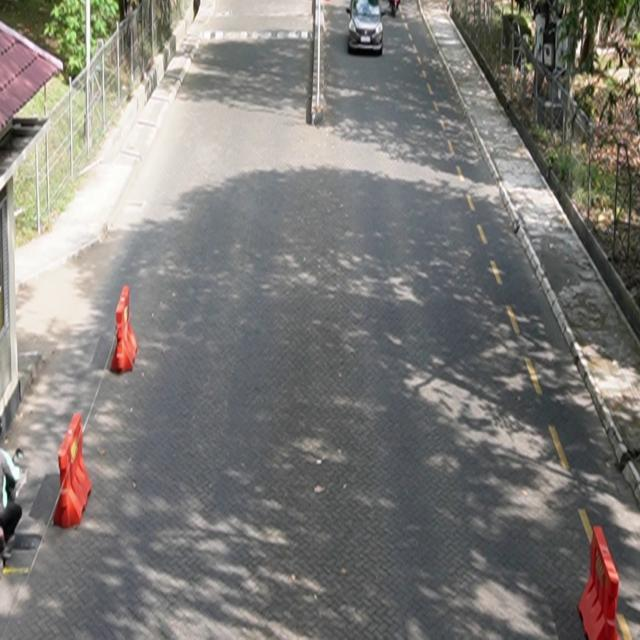car: (347, 1, 384, 56)
